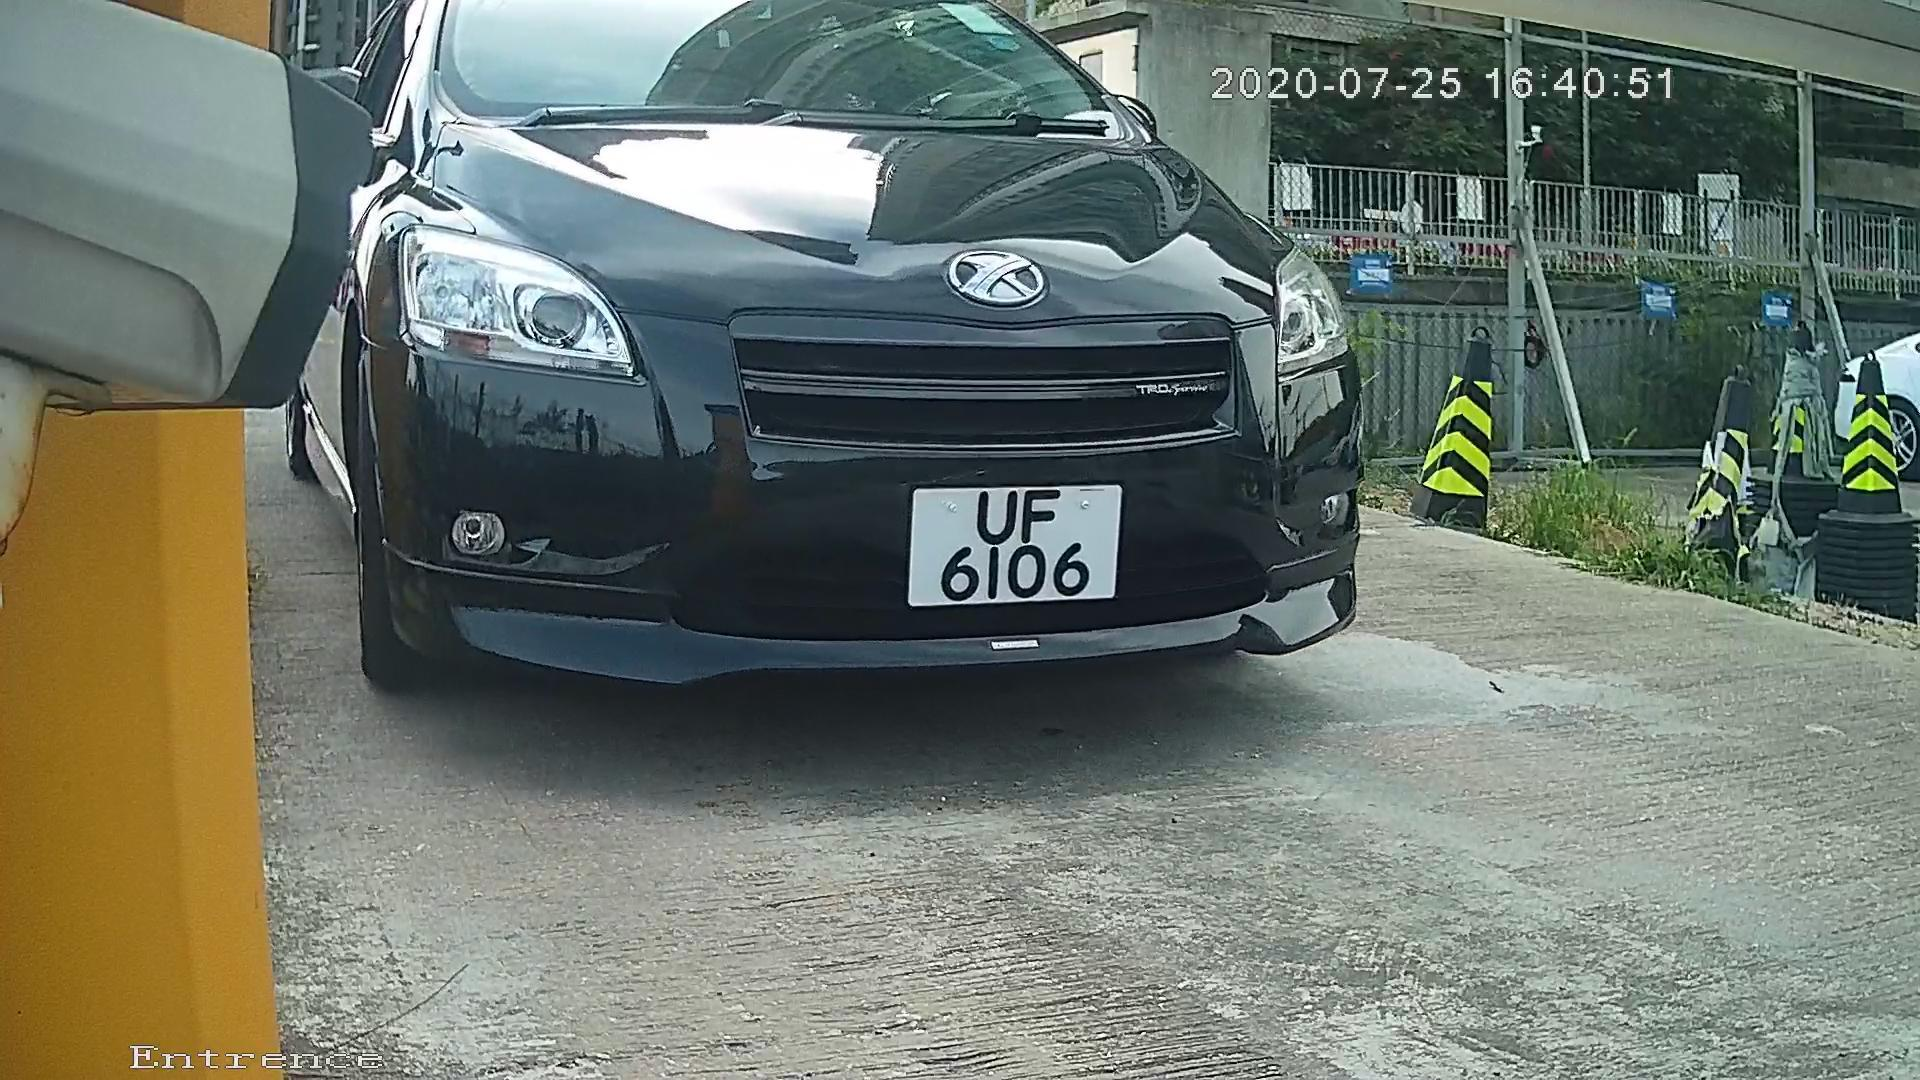privatecar: (280, 3, 1400, 786)
